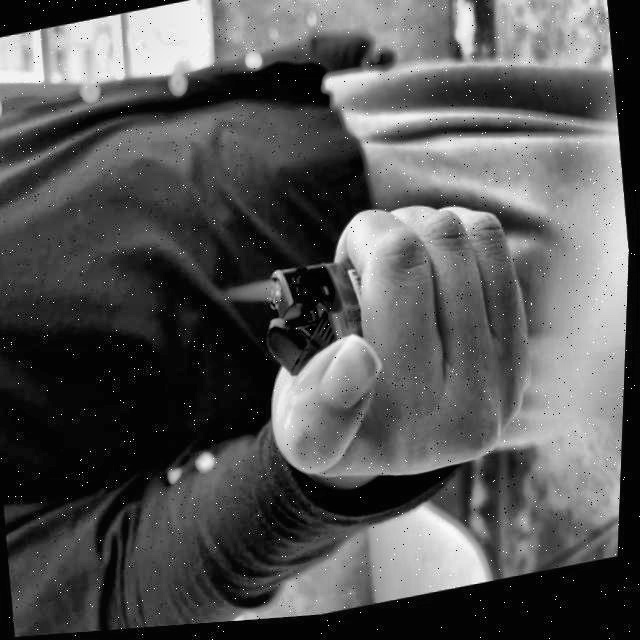Fire: (215, 279, 283, 318)
